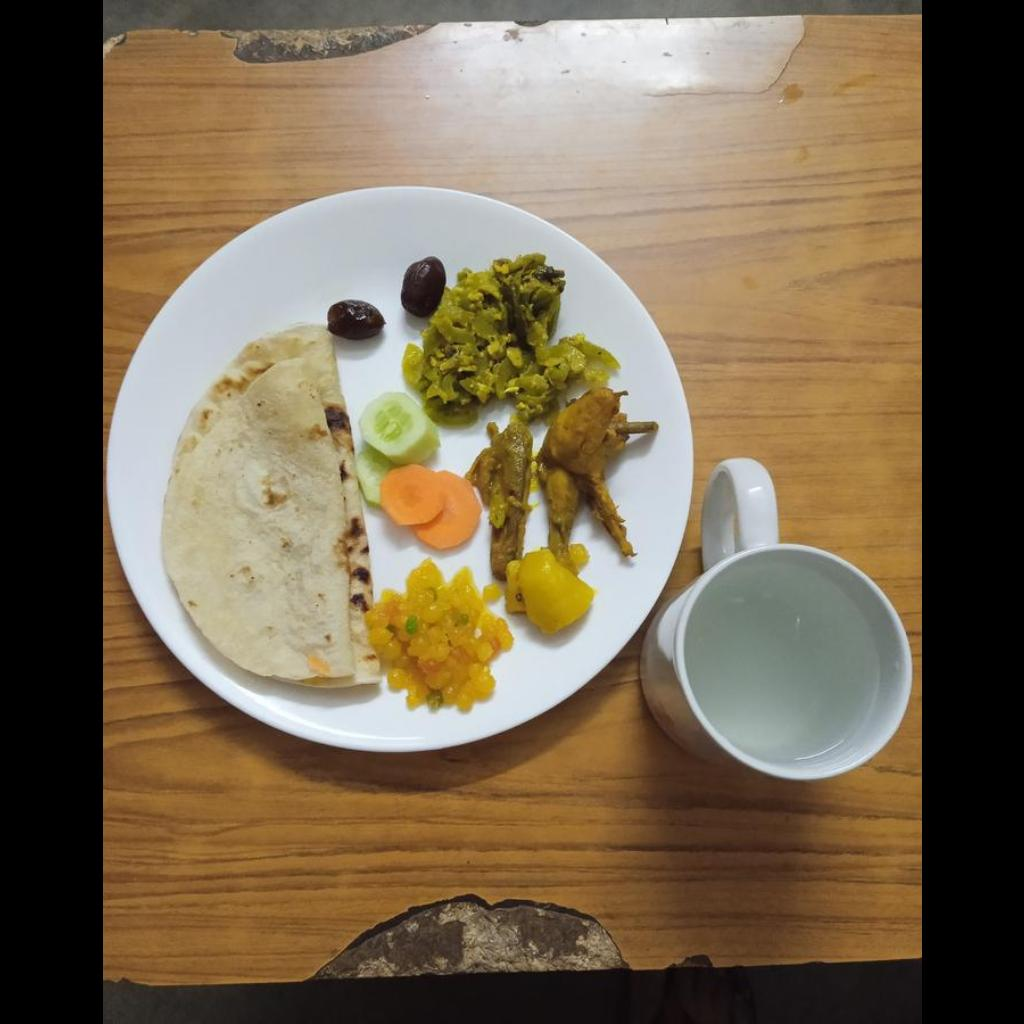burinda: (381, 563, 511, 707)
carrot: (381, 464, 481, 551)
chichinga-vaji: (402, 254, 616, 423)
chicken: (537, 387, 654, 558)
cucumber: (357, 391, 438, 506)
dates: (399, 257, 442, 319), (326, 300, 383, 338)
potato: (506, 544, 592, 634)
potol: (466, 415, 531, 580)
ruti: (152, 324, 372, 683)
